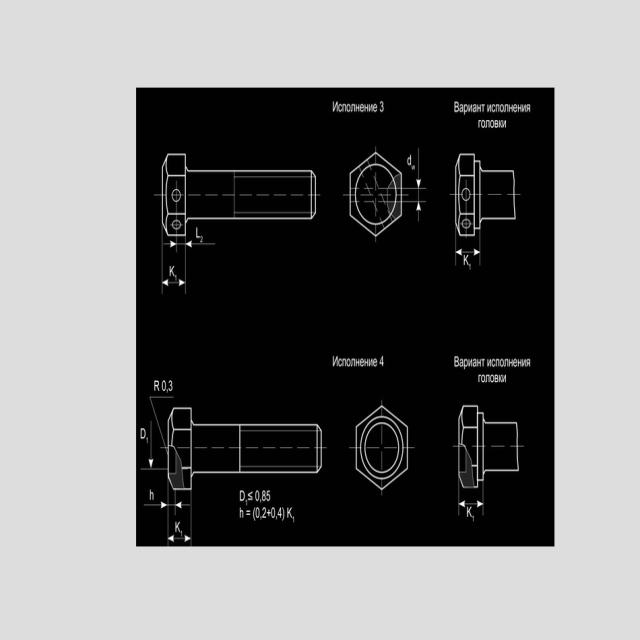marking_line: (142, 490, 193, 547), (403, 147, 428, 222), (160, 236, 187, 294), (138, 421, 168, 471), (144, 491, 193, 516), (453, 237, 483, 269), (457, 489, 485, 517), (164, 237, 215, 252)
numeric: (168, 263, 175, 278), (238, 489, 246, 502), (153, 380, 160, 393), (148, 488, 155, 501), (174, 520, 181, 533), (140, 428, 147, 440), (466, 505, 472, 518), (378, 355, 384, 367), (462, 254, 468, 266), (272, 506, 277, 520), (262, 507, 268, 518), (162, 379, 167, 392), (254, 489, 259, 501), (255, 507, 260, 519), (287, 506, 292, 518), (239, 507, 244, 519), (169, 380, 174, 391), (266, 490, 271, 501), (262, 490, 266, 502), (278, 507, 282, 519), (380, 101, 384, 113), (407, 154, 411, 166), (196, 227, 200, 238), (199, 236, 204, 243), (292, 516, 295, 524), (411, 164, 415, 170), (472, 515, 475, 522), (180, 530, 183, 536), (175, 272, 177, 281), (146, 436, 148, 444), (469, 263, 471, 270)
special_symbol: (247, 489, 253, 502), (252, 507, 256, 521), (282, 506, 285, 522), (246, 508, 250, 516), (245, 498, 248, 506)
